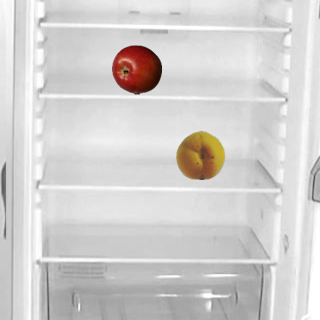Apple Braeburn: (111, 44, 161, 94)
Peach 2: (175, 129, 225, 179)
